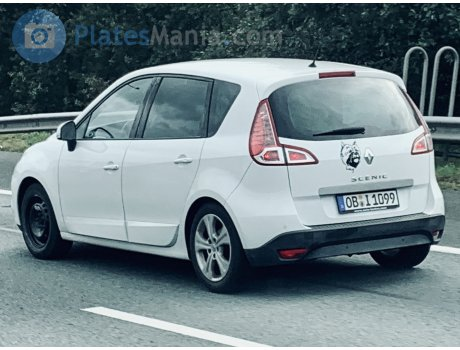License Plates: (346, 195, 401, 208)
